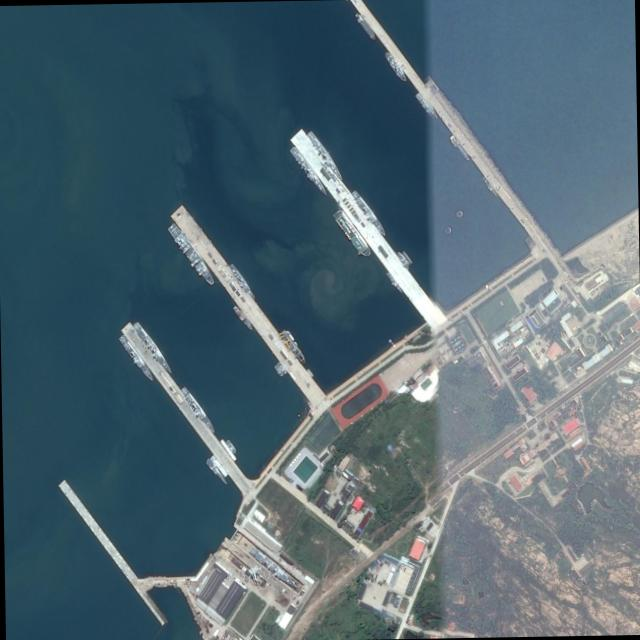ship: (167, 221, 218, 287), (133, 321, 174, 374), (332, 207, 373, 259), (249, 546, 298, 589), (289, 146, 328, 196), (307, 131, 344, 180), (118, 333, 155, 381), (351, 189, 387, 237), (181, 386, 217, 433), (229, 263, 256, 299), (279, 330, 307, 364), (384, 50, 408, 83), (415, 91, 438, 120), (354, 12, 377, 41), (232, 304, 254, 331), (206, 458, 227, 485), (449, 134, 470, 161), (385, 270, 404, 294), (210, 454, 228, 478), (220, 438, 238, 462), (482, 177, 498, 197), (396, 250, 410, 269), (225, 439, 237, 454), (401, 250, 413, 264), (277, 361, 287, 374), (273, 364, 283, 376), (286, 329, 294, 340)
